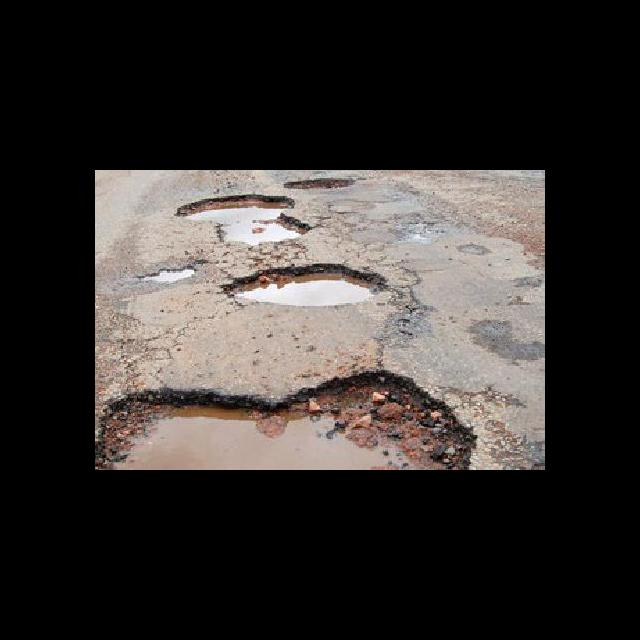lubang_kecil: (95, 368, 506, 470), (221, 253, 425, 327), (165, 191, 323, 252), (274, 170, 363, 201)
